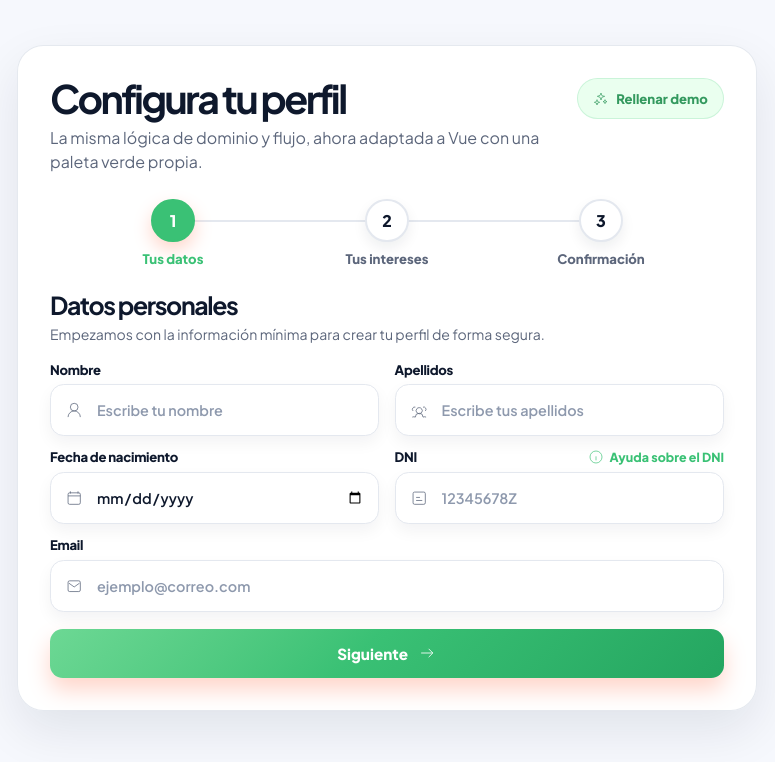
Scenario: ProfileSetupVueScreen › shows checkbox validation errors on the final step
The image size is (775, 762).
Click the button "Rellenar demo" at (650, 99), box [577,78,724,119]
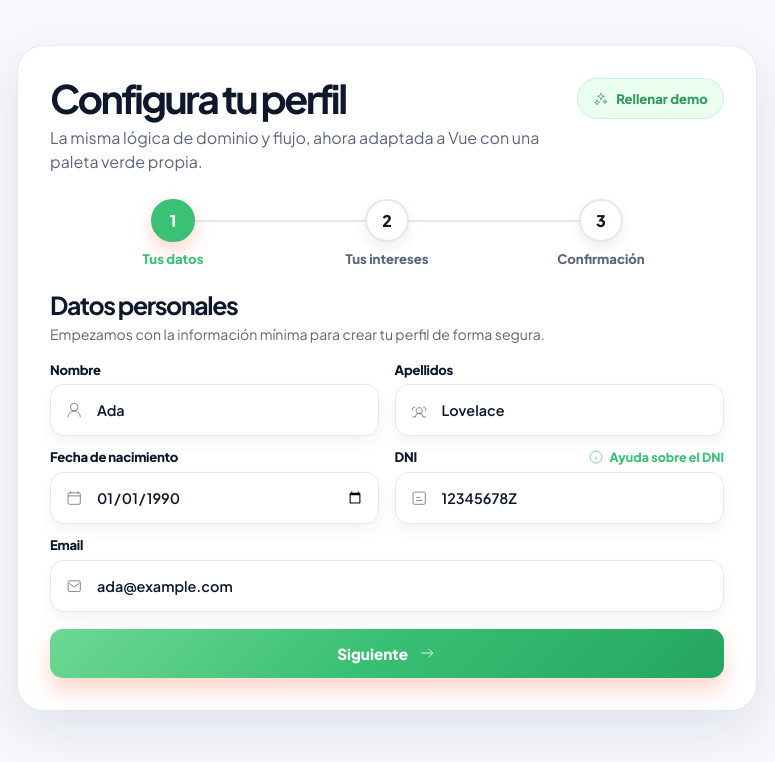
Click the button "Siguiente" at (387, 653), box [50,629,724,678]
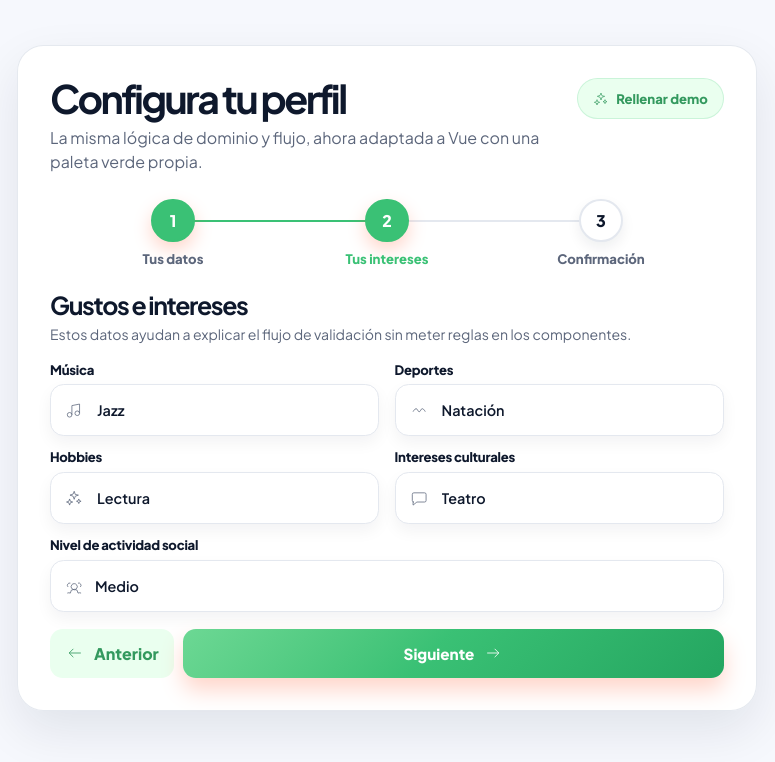
Click the button "Siguiente" at (453, 653), box [183,629,724,678]
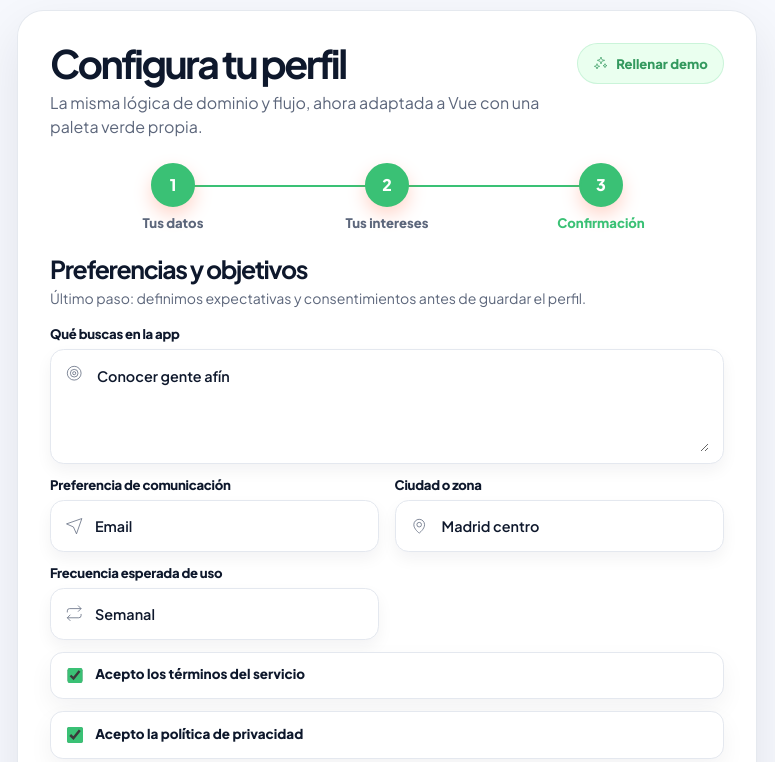
Click the checkbox labelled "Acepto los términos del servicio" at (75, 675), box [68,668,83,683]
(page scrolled)
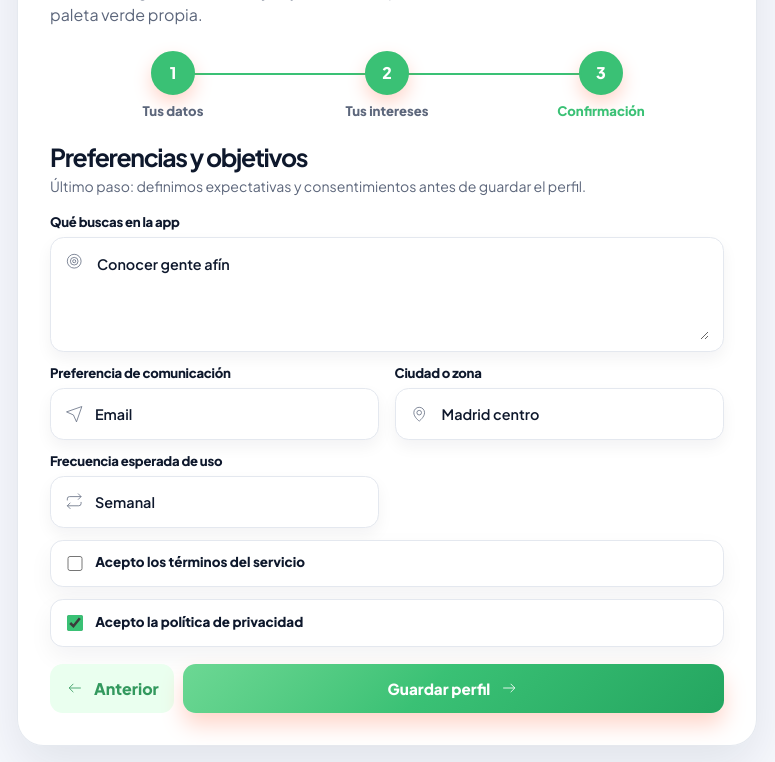
Click the button "Guardar perfil" at (453, 688), box [183,664,724,713]
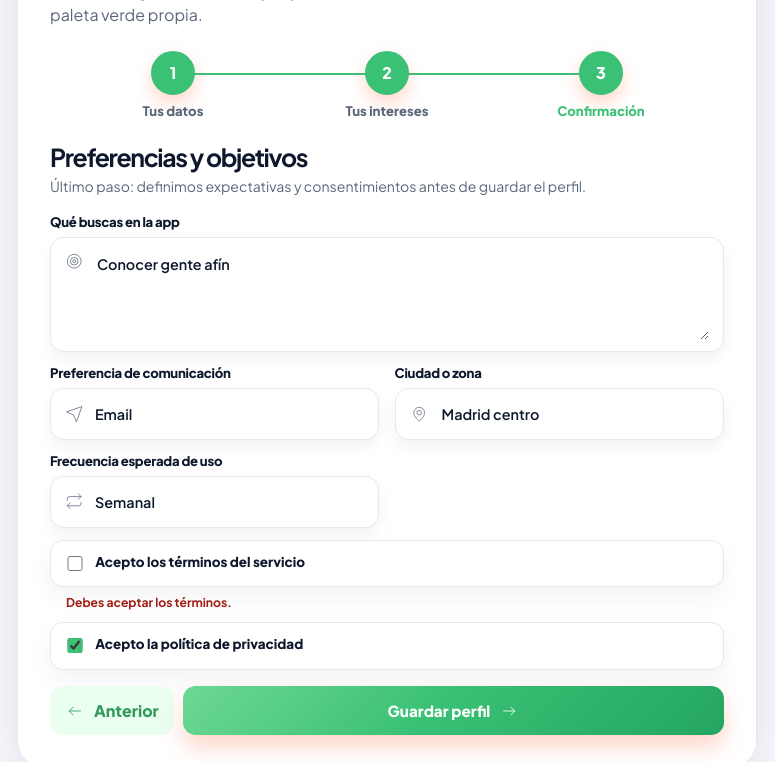
Expected: the text "Debes aceptar los términos." is shown, [66,594,232,610]
